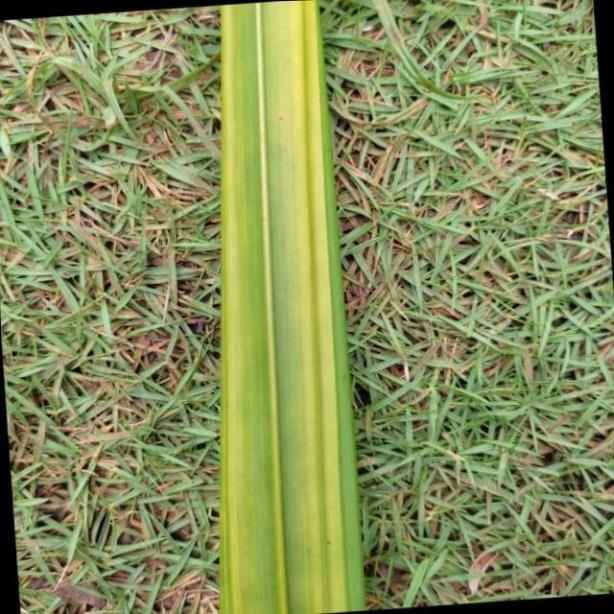nitrogen: (222, 0, 363, 614)
